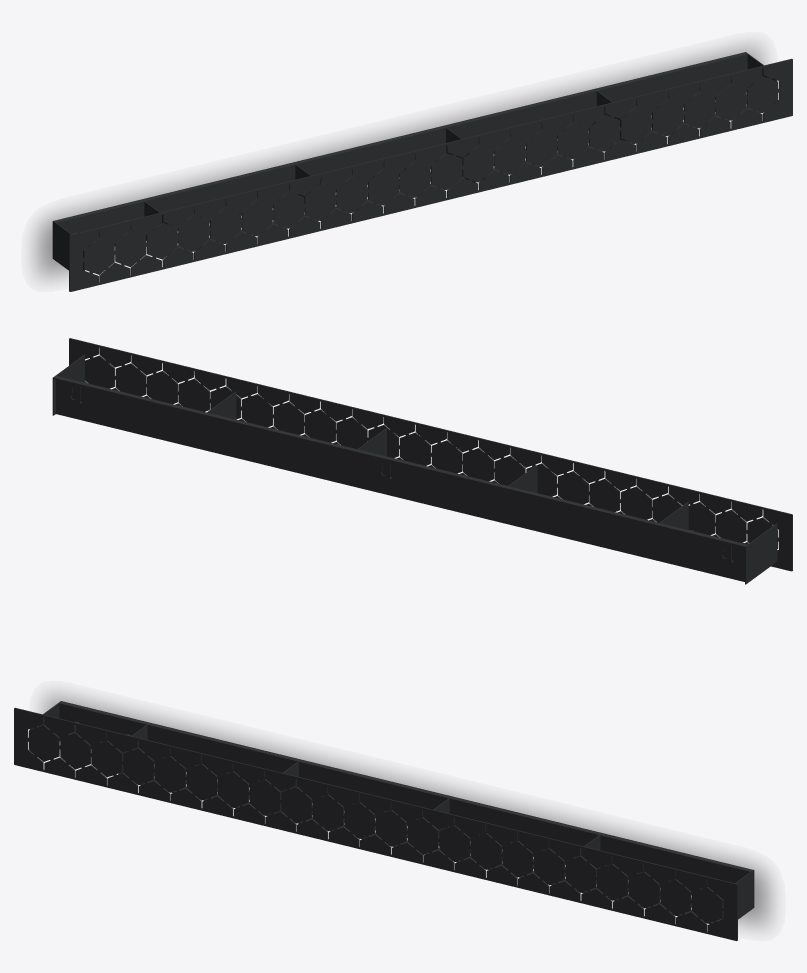
Rendered from bee-patron.69bfc3628f.ar.glb.
3 renders of one model, top to bottom at view 1: azimuth 30°, elevation 25°; view 2: azimuth 150°, elevation 25°; view 3: azimuth 330°, elevation 25°, orthographic.
Visible parts, largest first — view 1: NAUO1, object 2; view 2: NAUO1; view 3: NAUO1, object 2.
Boxes of the visible parts, x1=… form: NAUO1: x1=52, y1=52, x2=792, y2=291; object 2: x1=33, y1=45, x2=765, y2=278; NAUO1: x1=52, y1=338, x2=792, y2=584; NAUO1: x1=14, y1=701, x2=754, y2=940; object 2: x1=41, y1=694, x2=773, y2=927.
Size of the model in its own units: 1.28 by 0.17 by 0.092.
Materials: 2 (1 with a texture image).
